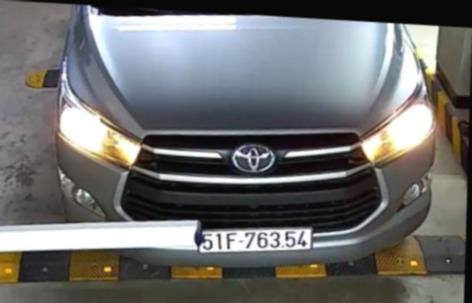License_Plate: (196, 221, 319, 260)
